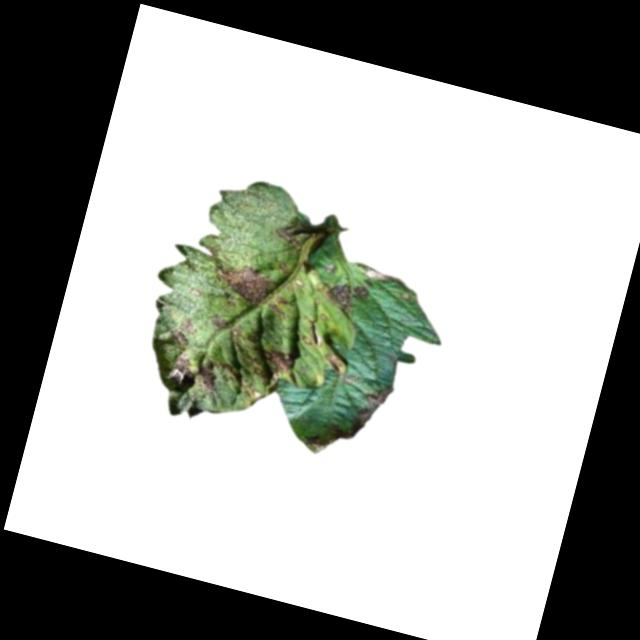Early_blight: (229, 338, 297, 407), (211, 261, 283, 312), (154, 310, 201, 387), (319, 275, 370, 322), (354, 381, 394, 437), (192, 353, 231, 398), (206, 310, 246, 343), (273, 215, 308, 251)
